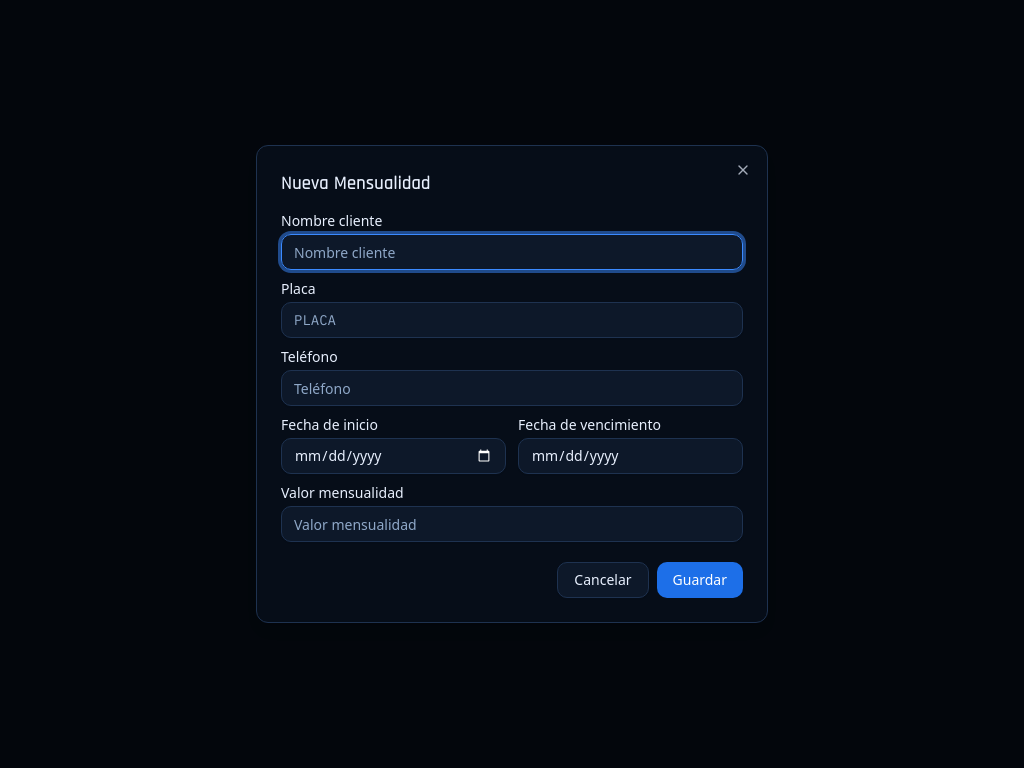
it: no acepta un valor negativo
Type "Diana Peña" into the field labelled "Nombre cliente" at (512, 252), box [281,234,743,270]
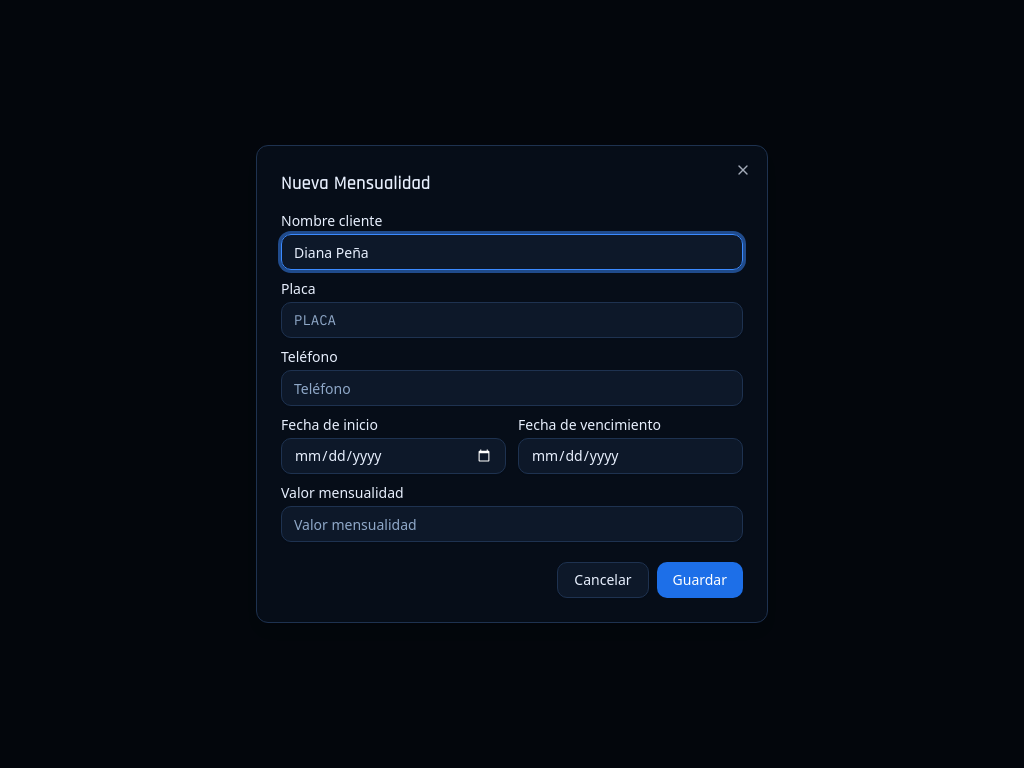
Type "QWE456" into the field labelled "Placa" at (512, 320), box [281,302,743,338]
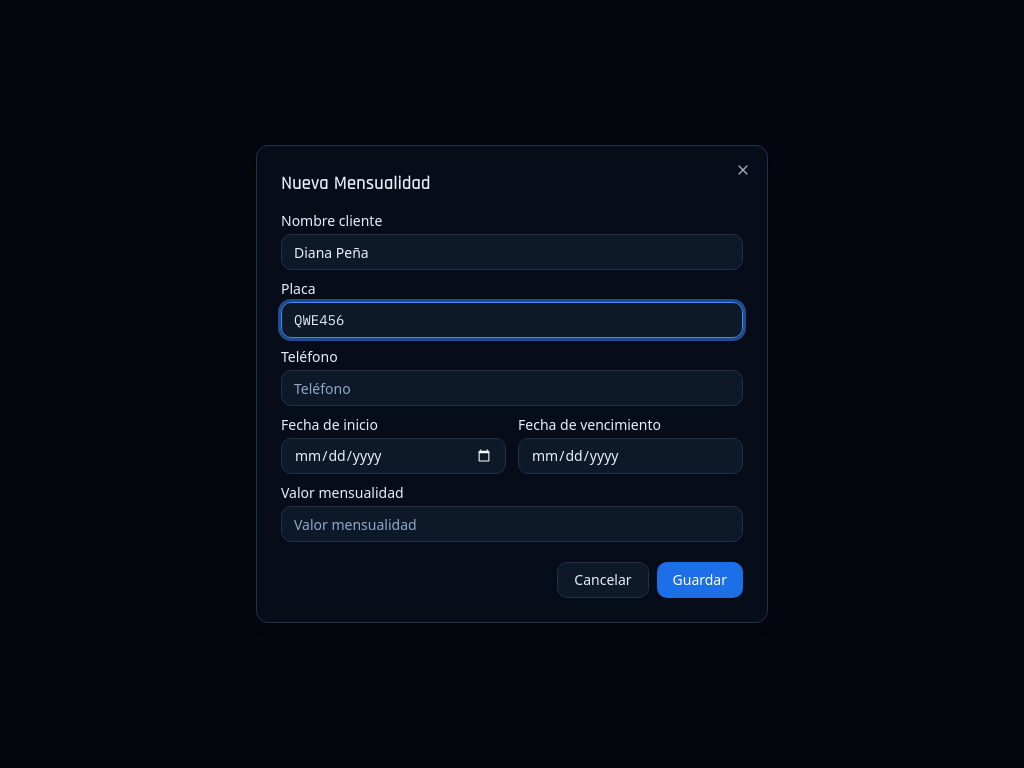
Type "2026-08-01" into the date field labelled "Fecha de inicio" at (394, 456), box [281,438,506,474]
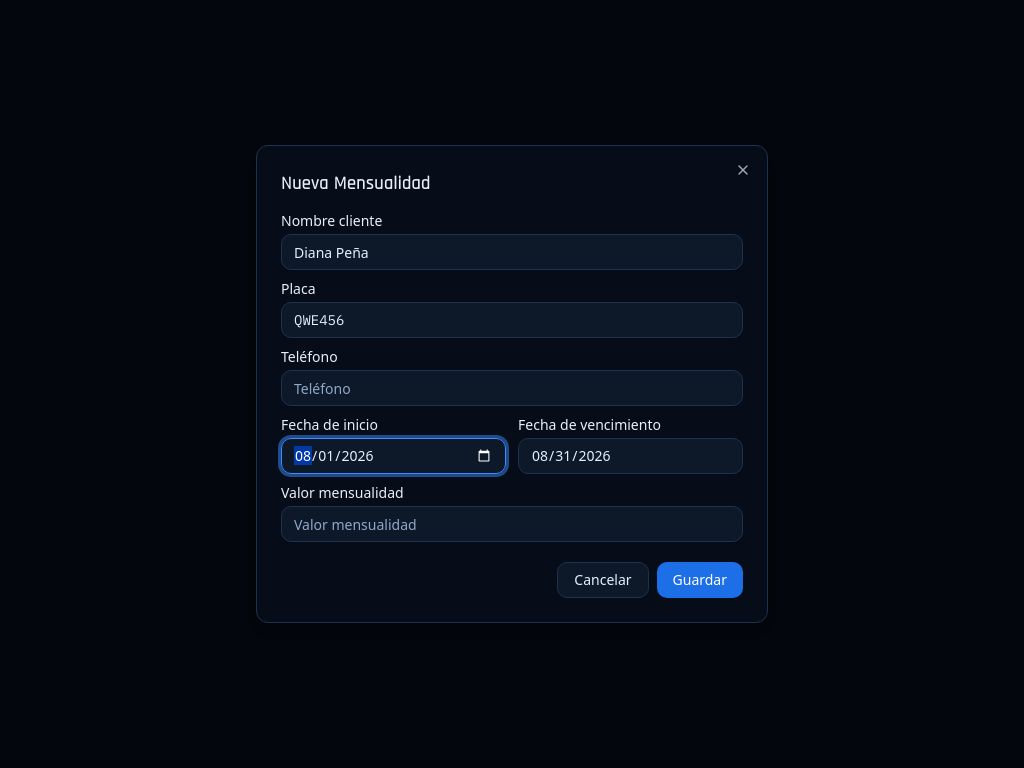
Type "-5000" into the number field labelled "Valor mensualidad" at (512, 524), box [281,506,743,542]
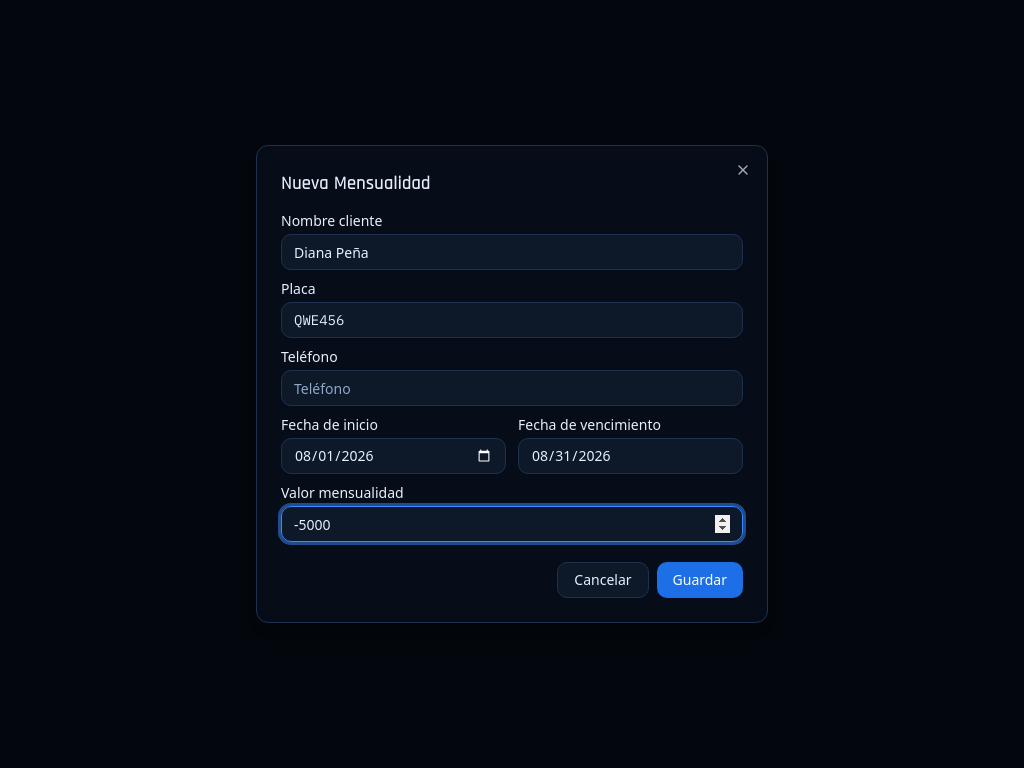
Click the button "Guardar" at (700, 580), box [656,562,743,598]
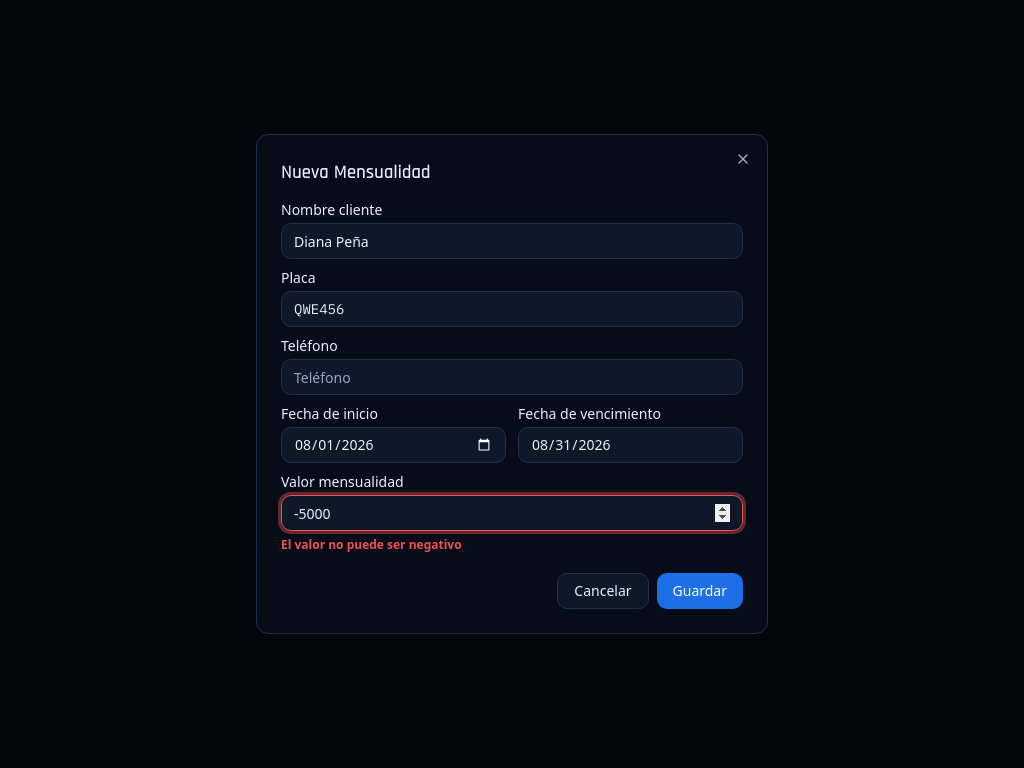
Now the text "El valor no puede ser negativo" is shown, box [281,536,462,553]
